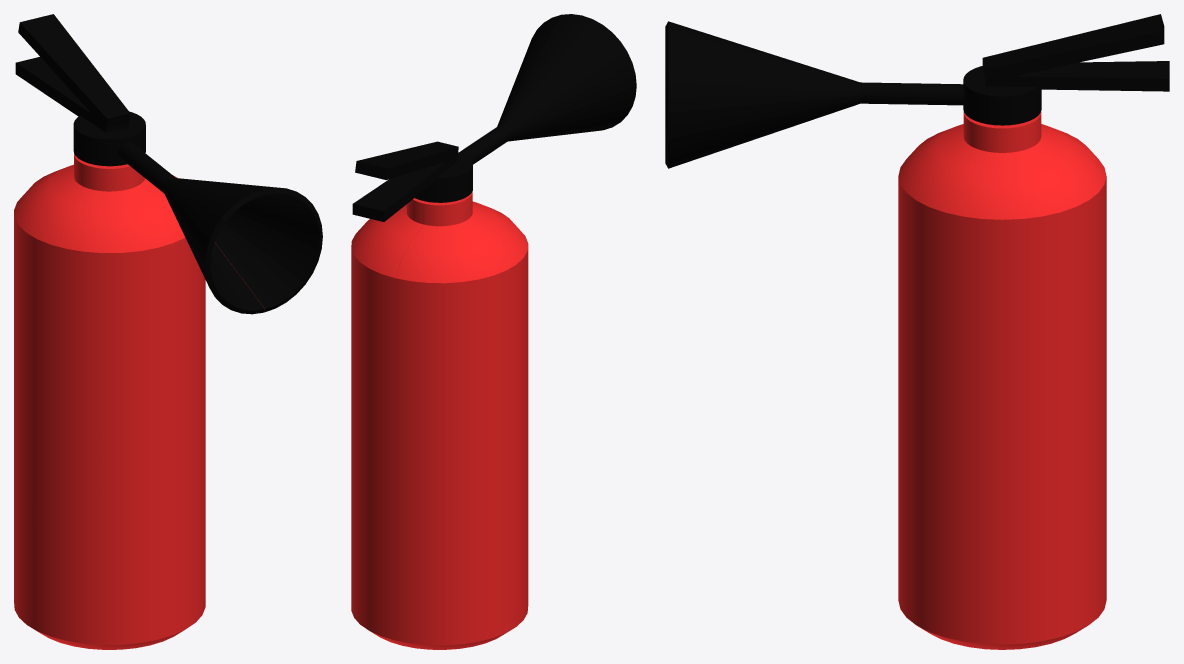
The model's file is FireExstinguisher.fbx.
3 views of the same model, side by side, from view 1: azimuth 30°, elevation 25°; view 2: azimuth 150°, elevation 25°; view 3: azimuth 270°, elevation 25° (orthographic). The views are drawn at different scales.
Visible parts, largest first — view 1: Fire Extinguisher; view 2: Fire Extinguisher; view 3: Fire Extinguisher.
Boxes of the visible parts, left/top/right/bottom form: Fire Extinguisher: left=14, top=14, right=322, bottom=649; Fire Extinguisher: left=351, top=14, right=636, bottom=649; Fire Extinguisher: left=665, top=14, right=1169, bottom=649.
Bounding box in the file's own units: 200 × 635 × 485.
1 material, 1 textured.
